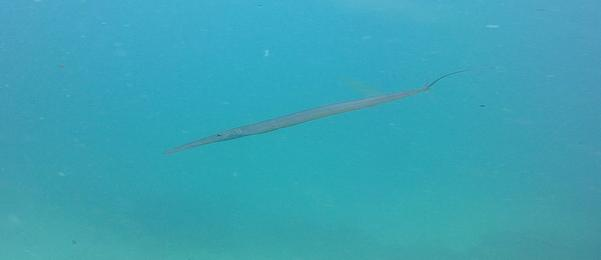Fistularia commersonii: (161, 64, 499, 156)
